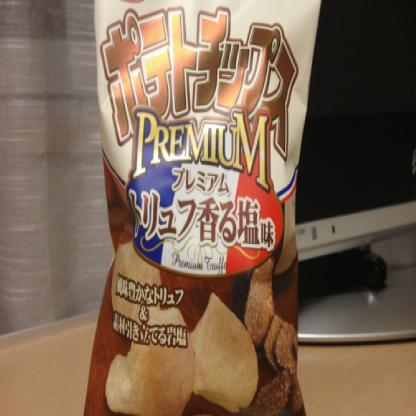potatochip: (80, 0, 321, 415)
